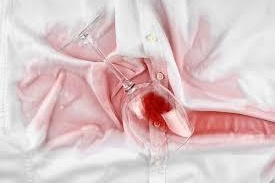wine: (28, 72, 123, 101), (184, 114, 273, 138), (55, 95, 108, 135)
